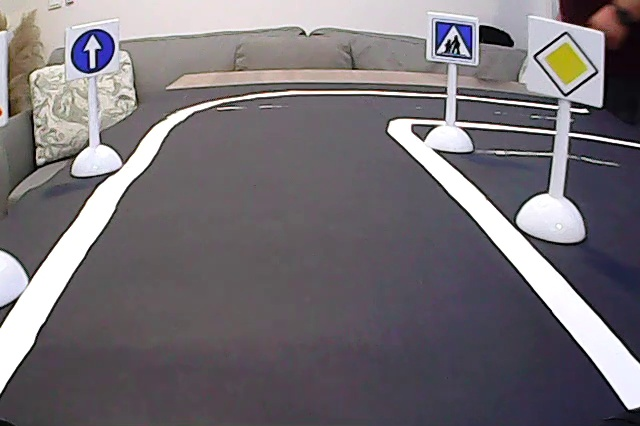school crossing: (429, 16, 476, 64)
